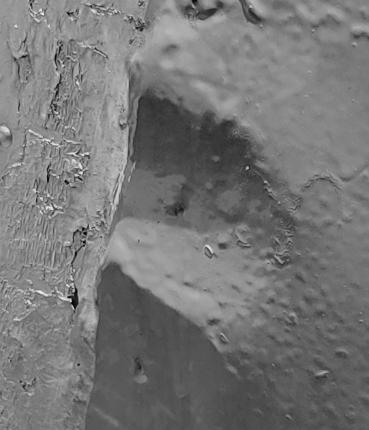dent: (1, 1, 369, 430)
